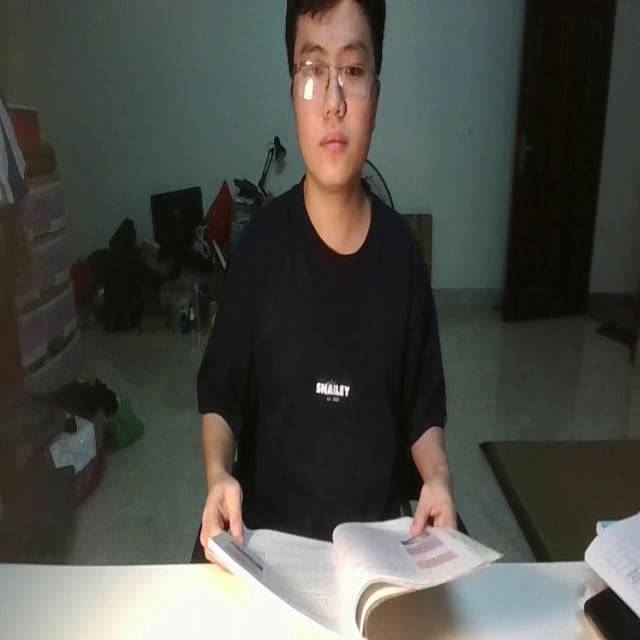book: (203, 514, 501, 636)
student: (191, 0, 462, 565)
